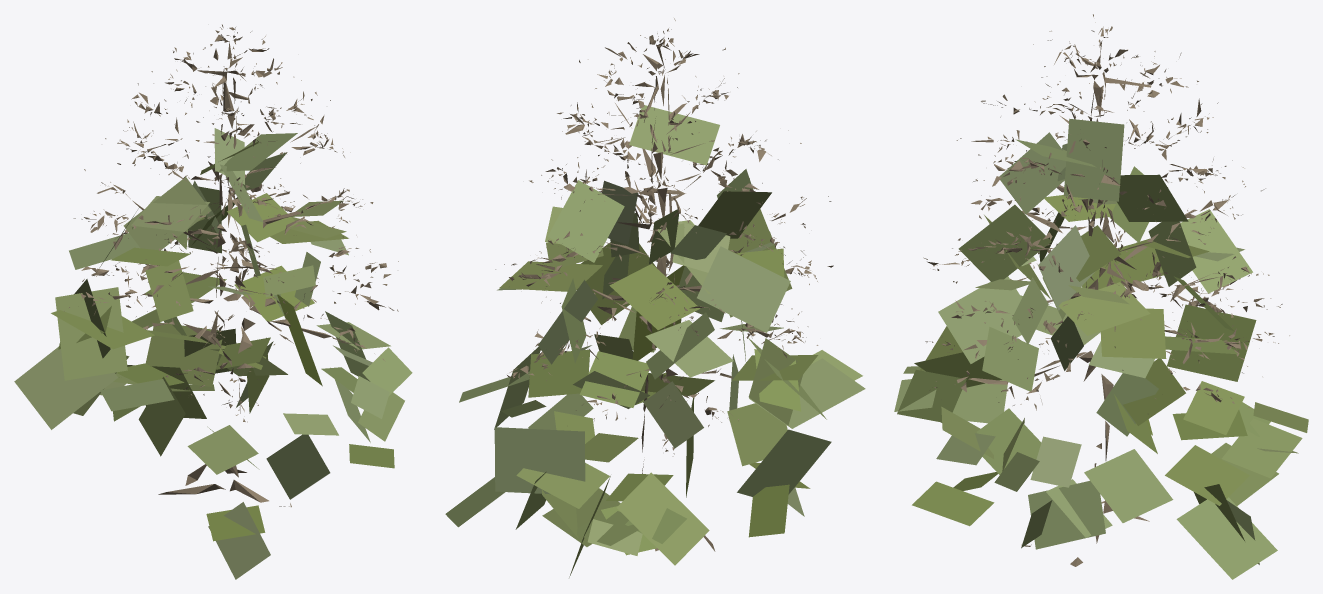
Rendered from tree_large_redwood_a.glb.
3 renders of one model, left to right at view 1: azimuth 30°, elevation 25°; view 2: azimuth 150°, elevation 25°; view 3: azimuth 270°, elevation 25°, orthographic. The views are drawn at different scales.
Parts seen in each view (by area): view 1: leaves, wood; view 2: leaves, wood; view 3: leaves, wood.
Boxes of the visible parts, x1=… form: leaves: x1=14, y1=128, x2=412, y2=579; wood: x1=64, y1=24, x2=398, y2=507; leaves: x1=445, y1=105, x2=865, y2=577; wood: x1=495, y1=18, x2=833, y2=551; leaves: x1=894, y1=118, x2=1308, y2=579; wood: x1=923, y1=14, x2=1289, y2=566.
Size of the model in its own units: 16.27 by 22.97 by 16.03.
